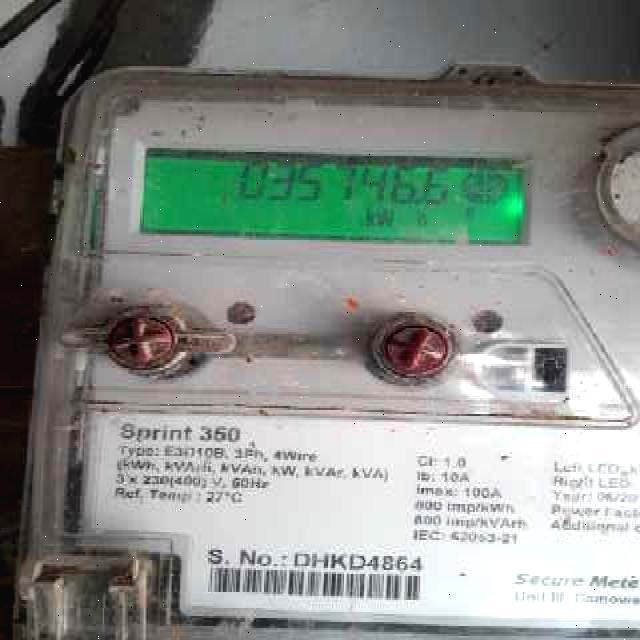LCD: (129, 141, 540, 251)
